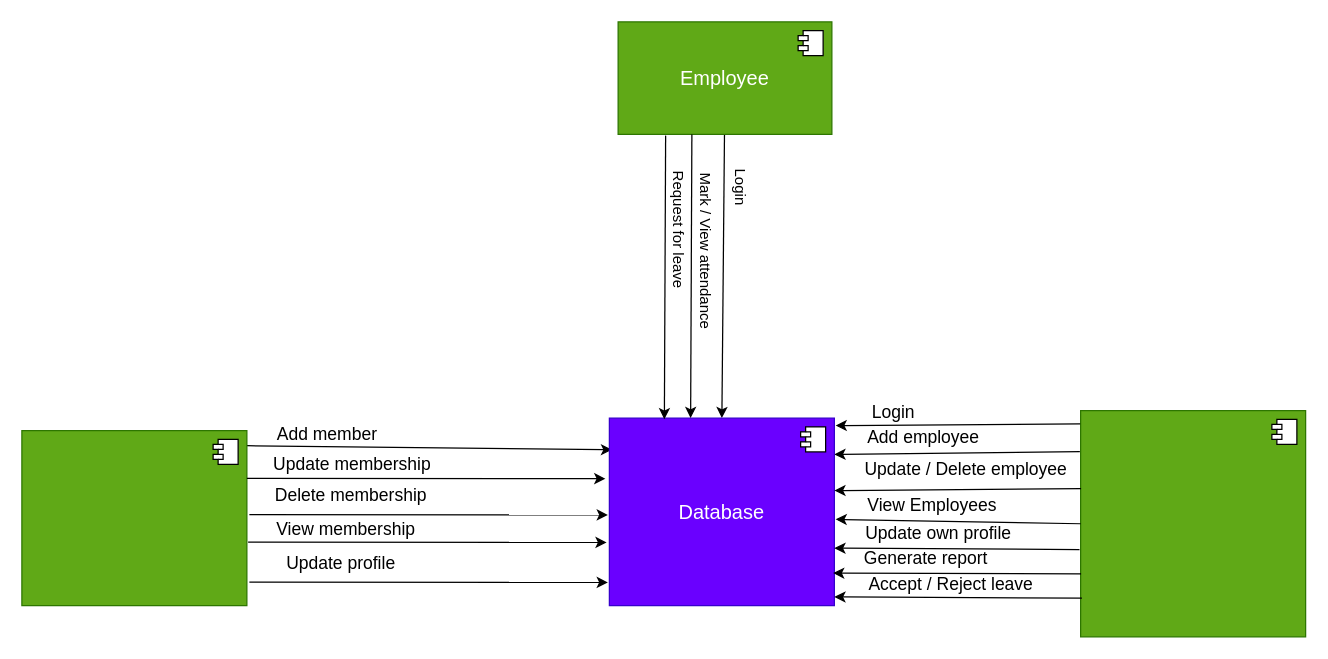
Some shapes in this 1328 by 659 pixel diagram are drawn without their labels. Each missing label, with the centre of its shape:
Company / Member: point 1192,523
Membership Manager: point 134,517
